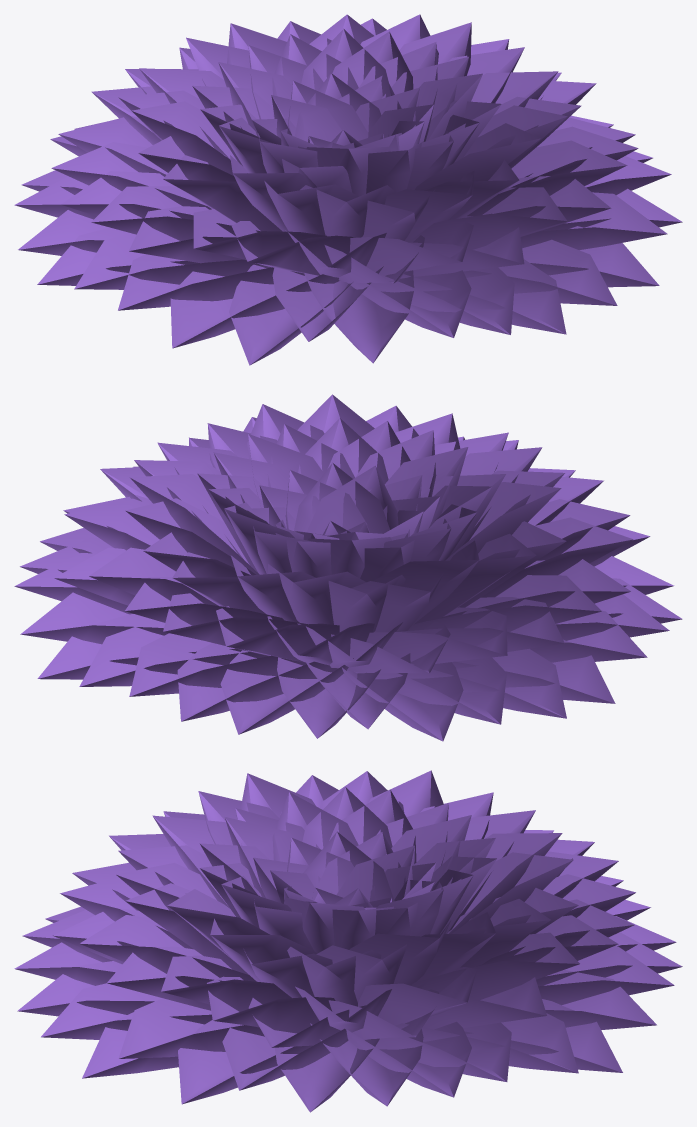
File: chrysanthemum.glb
The picture shows the model from 3 angles, top to bottom: view 1: azimuth 30°, elevation 25°; view 2: azimuth 150°, elevation 25°; view 3: azimuth 270°, elevation 25°; orthographic projection.
Parts seen in each view (by area): view 1: chrysanthemum; view 2: chrysanthemum; view 3: chrysanthemum.
Part boxes in pixels (left/top/right/bottom): chrysanthemum: left=14, top=14, right=682, bottom=365; chrysanthemum: left=14, top=394, right=682, bottom=741; chrysanthemum: left=14, top=770, right=682, bottom=1112.
Bounding box in the file's own units: 0.1099 × 0.0328 × 0.1099.
